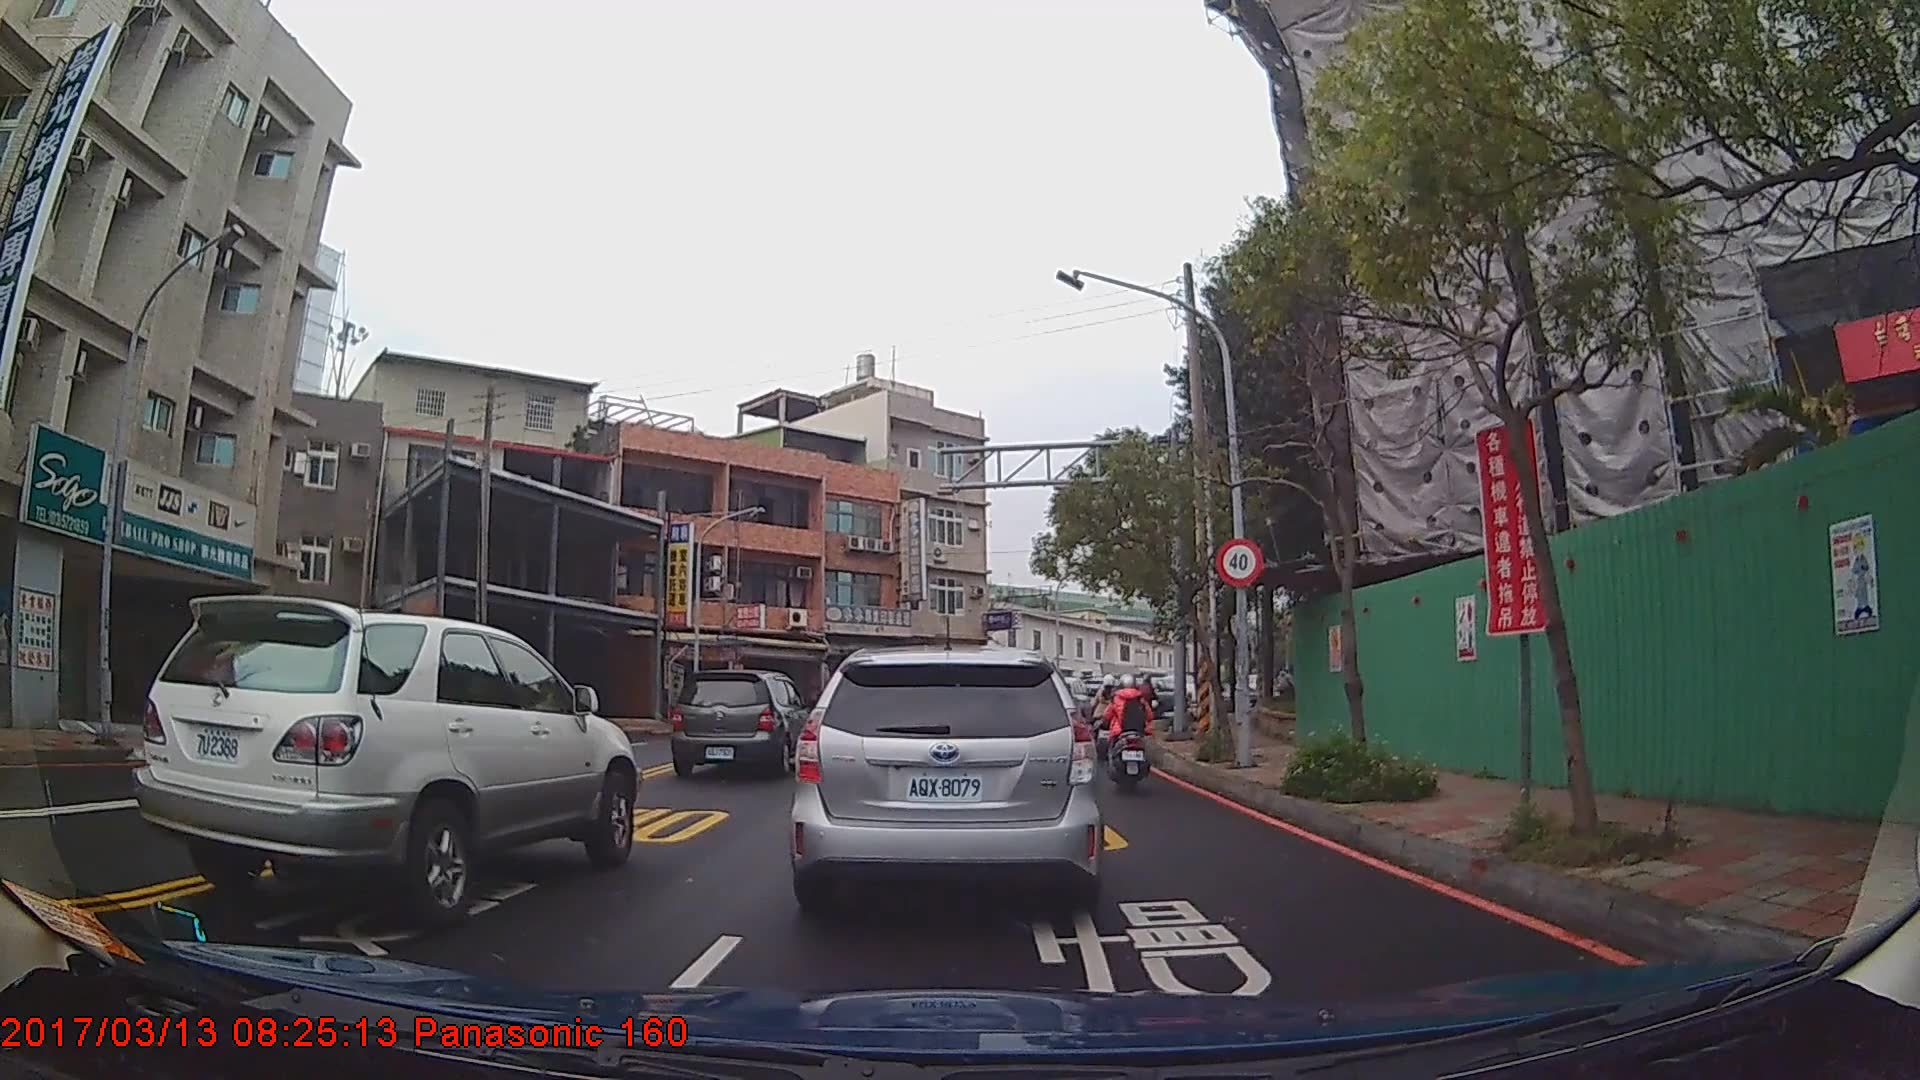rider: (1101, 677, 1157, 789), (1093, 673, 1124, 763), (1134, 674, 1160, 726)
vehicle: (135, 595, 641, 928), (790, 645, 1101, 920), (666, 667, 810, 775)
